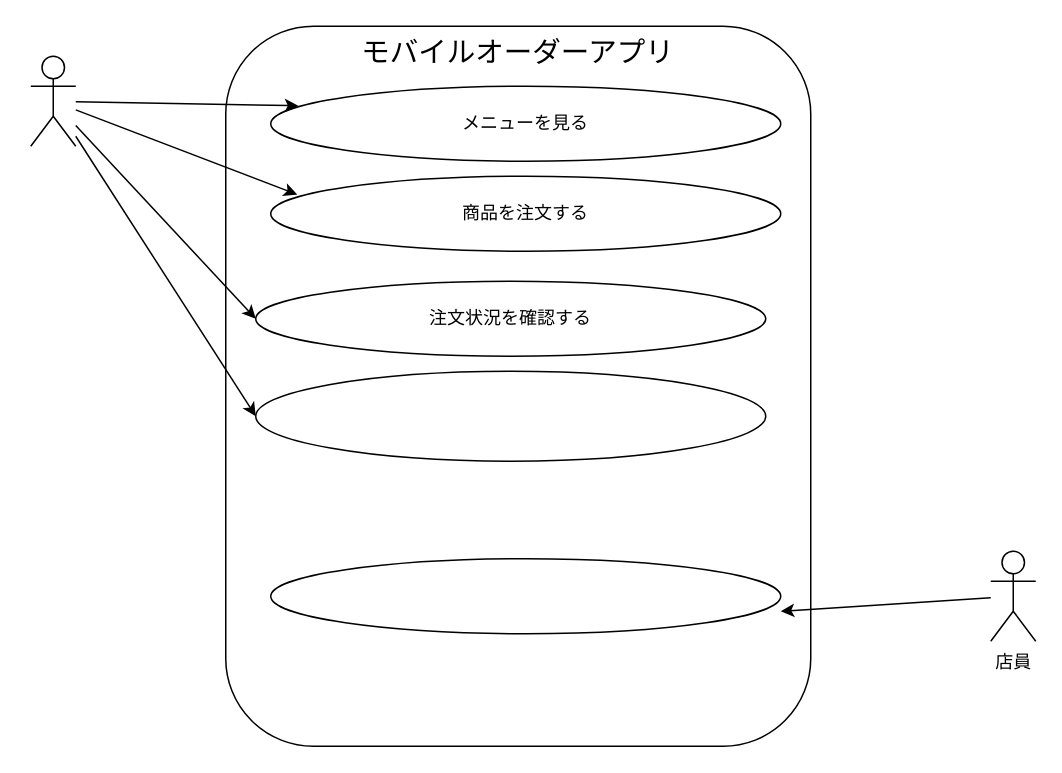
The diagram is 1062 pixels wide and 773 high, and some of its shapes have lost their labels. The shapes that lost their labels are listed below. From the top down, each one's centre as x and y in pixels, then its label:
At point 52,100: "お客様".
At point 510,415: "注文を取り消す".
At point 525,595: "注文を受け渡す".
